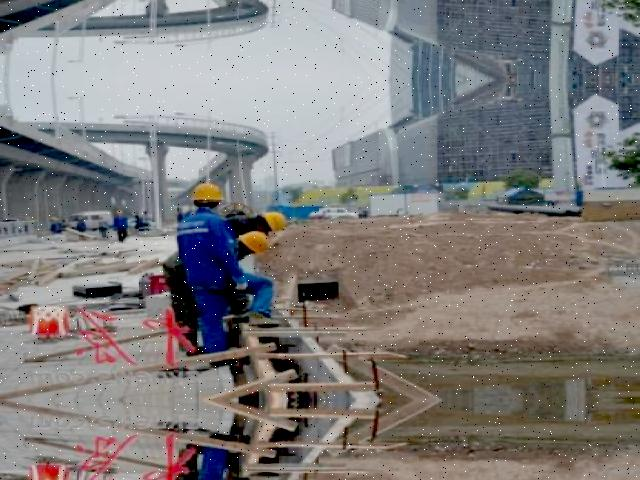Helmet: (191, 178, 230, 208), (239, 226, 276, 255), (262, 207, 292, 233)
